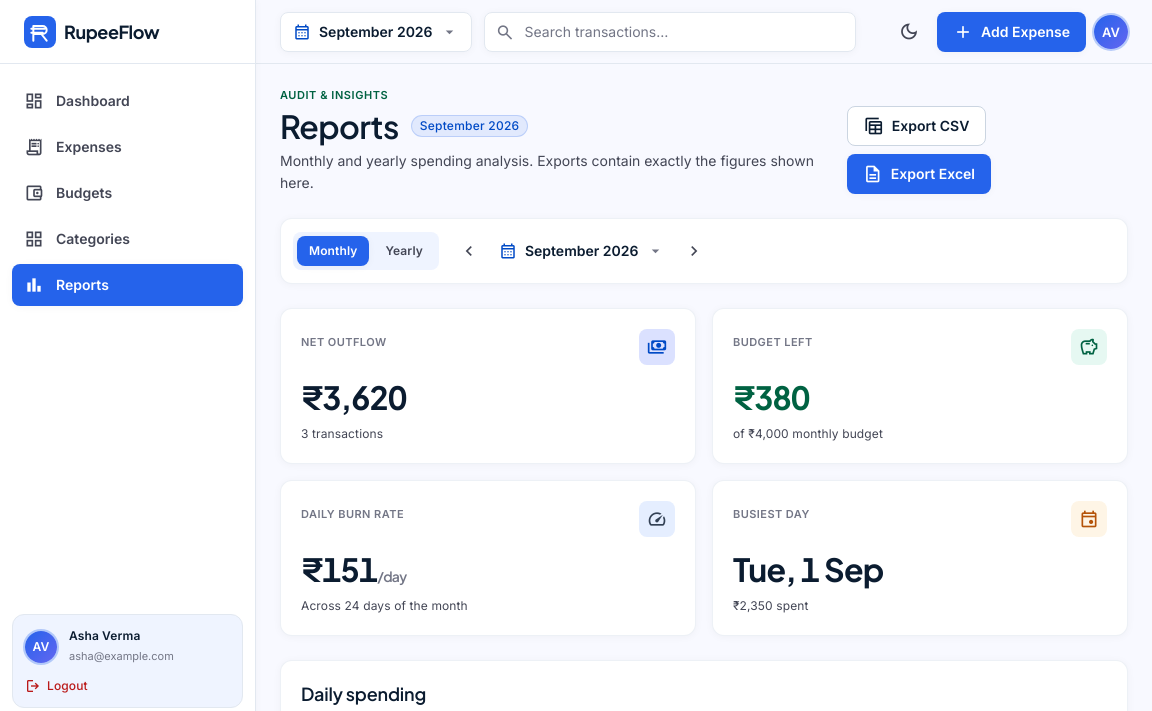
Scenario: Reports › renders the monthly audit table and switches to yearly
The image size is (1152, 711).
Step 1. Click the tab "Yearly" → click(404, 251), box [374,236,435,266]
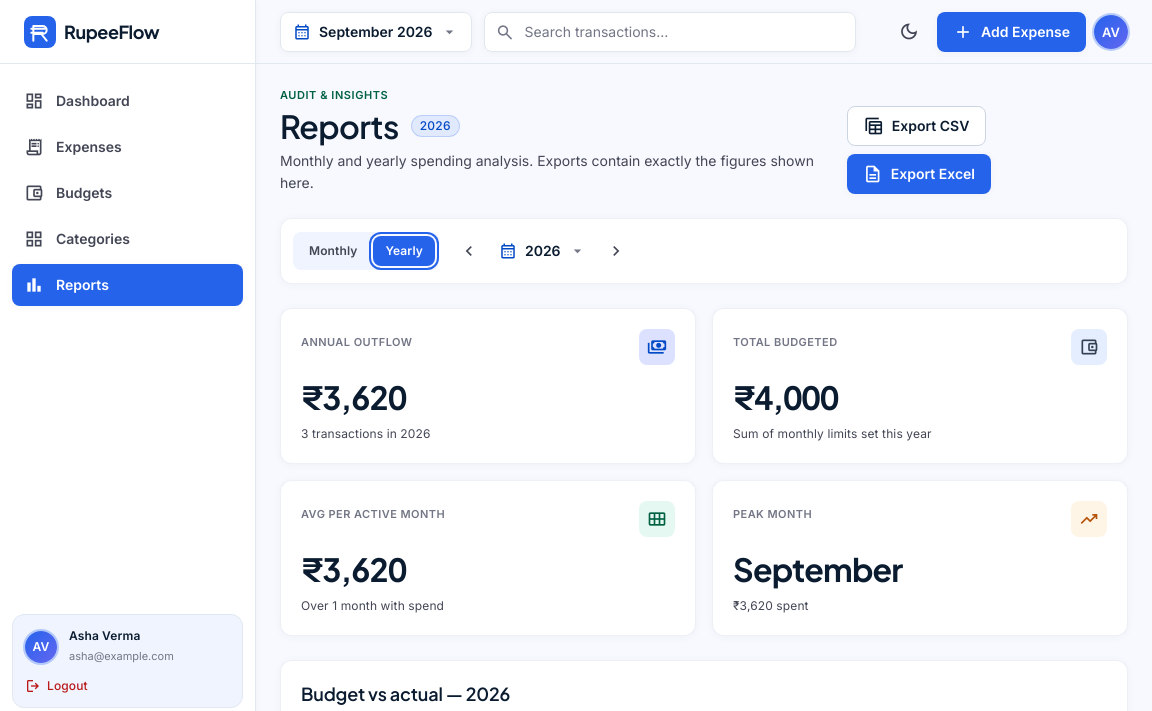
Expected: the heading "Budget vs actual — 2026" is shown, [301,681,510,707]
